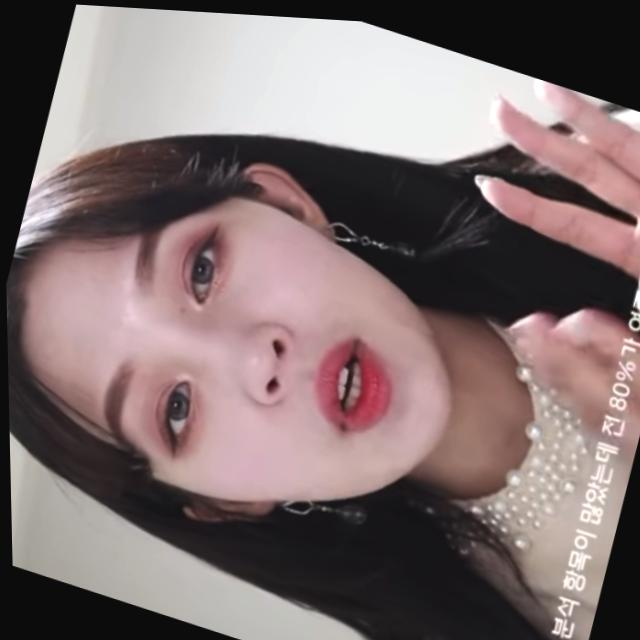face: (40, 150, 484, 564)
